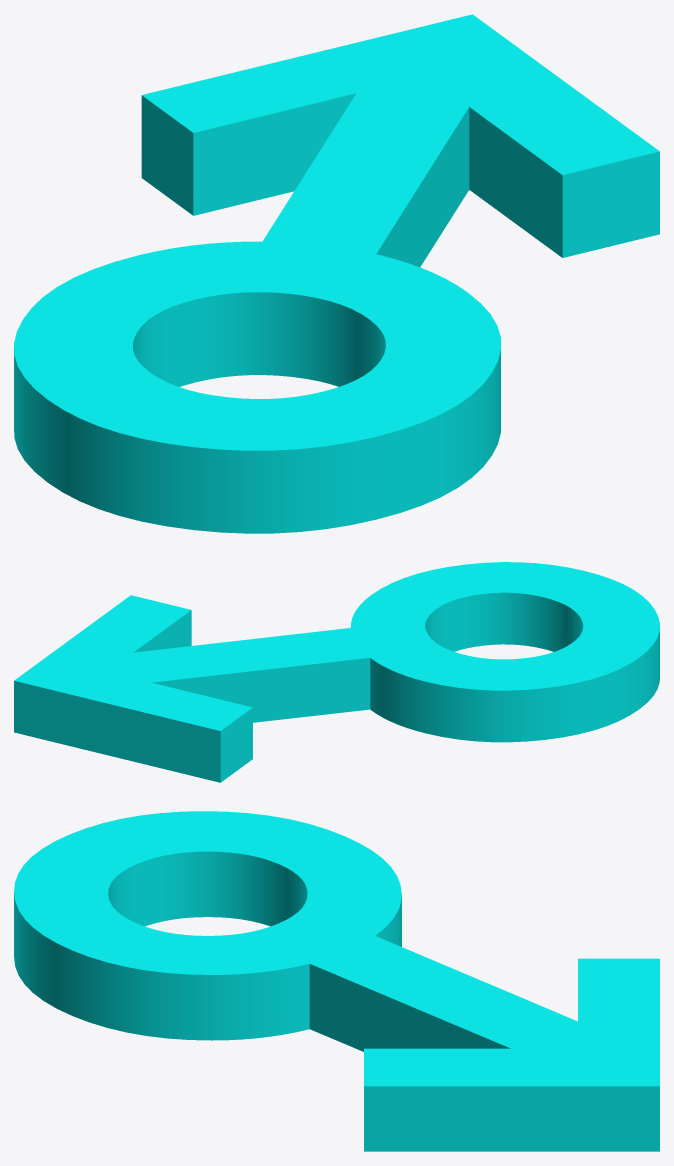
File: male_symbol.dae
3 views of the same model, one above another, from view 1: azimuth 30°, elevation 25°; view 2: azimuth 150°, elevation 25°; view 3: azimuth 270°, elevation 25° (orthographic). The views are drawn at different scales.
Visible parts, largest first — view 1: Text001; view 2: Text001; view 3: Text001.
Boxes of the visible parts, x1,y1,x2,y2 form: Text001: (14, 14, 659, 533); Text001: (14, 562, 659, 782); Text001: (14, 811, 659, 1151).
Bounding box in the file's own units: 53.22 × 52.8 × 5.91.
